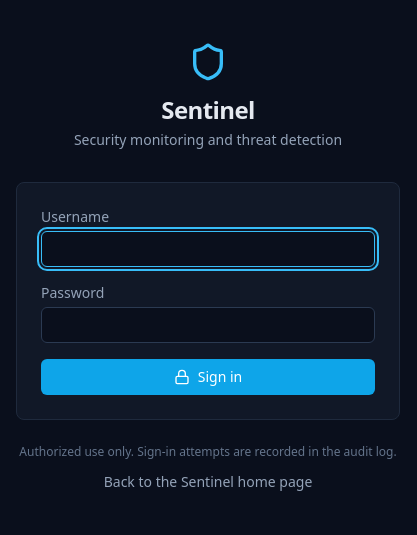
Test case: authentication › shows the backend error message on failed login
Type "admin" into the field labelled "Username" at (208, 249), box [41, 231, 375, 267]
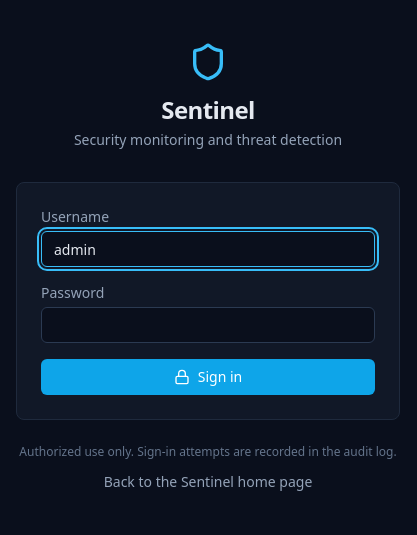
Type "wrong" into the password field labelled "Password" at (208, 325), box [41, 307, 375, 343]
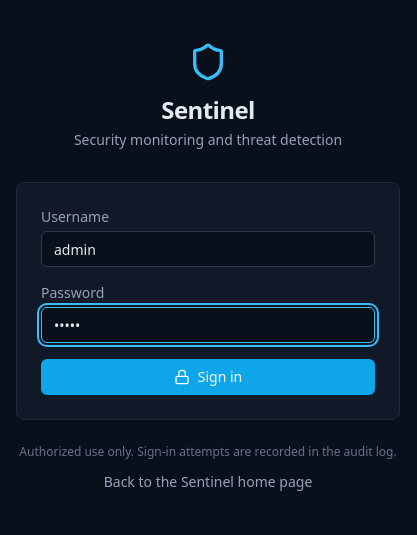
Click the button "Sign in" at (208, 377), box [41, 359, 375, 395]
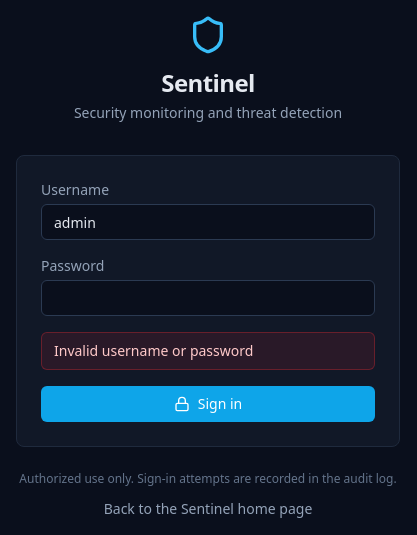
Expected: the message reads "Invalid username or password", [54, 341, 253, 360]
Expected: the password field labelled "Password" is empty, [41, 280, 375, 316]
